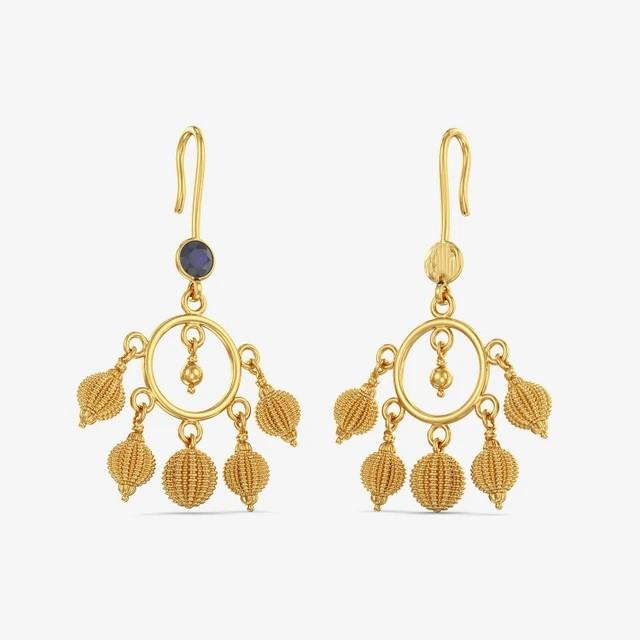missing gem: (426, 244, 459, 281)
